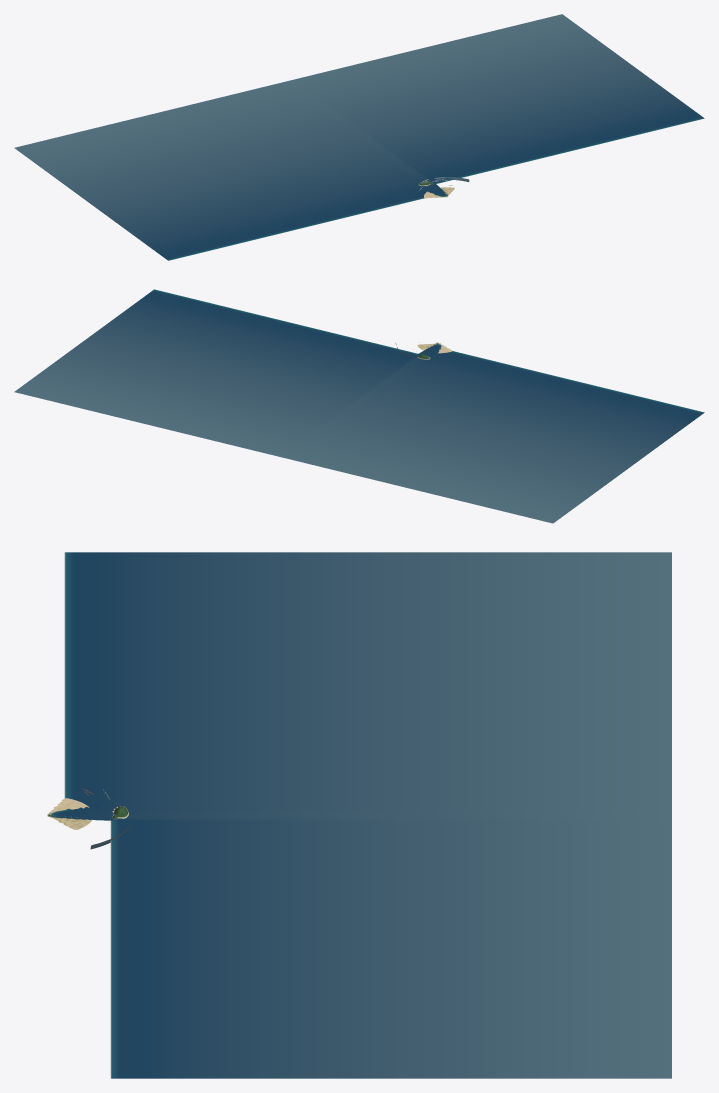
The model's file is arena_terengganu.glb.
3 views of the same model, one above another, from view 1: azimuth 30°, elevation 25°; view 2: azimuth 150°, elevation 25°; view 3: azimuth 270°, elevation 25° (orthographic). The views are drawn at different scales.
Parts seen in each view (by area): view 1: EnvFar_MatWater_sea, EnvBattle_MatWater_sea; view 2: EnvFar_MatWater_sea, EnvBattle_MatWater_sea; view 3: EnvFar_MatWater_sea, EnvBattle_MatWater_sea.
Boxes of the visible parts, x1,y1,x2,y2 form: EnvFar_MatWater_sea: (14,14,703,260); EnvBattle_MatWater_sea: (168,118,704,260); EnvFar_MatWater_sea: (14,290,703,523); EnvBattle_MatWater_sea: (154,289,704,412); EnvFar_MatWater_sea: (52,552,671,1078); EnvBattle_MatWater_sea: (51,552,112,1078).
Bounding box in the file's own units: 6000 × 89.83 × 3012.
